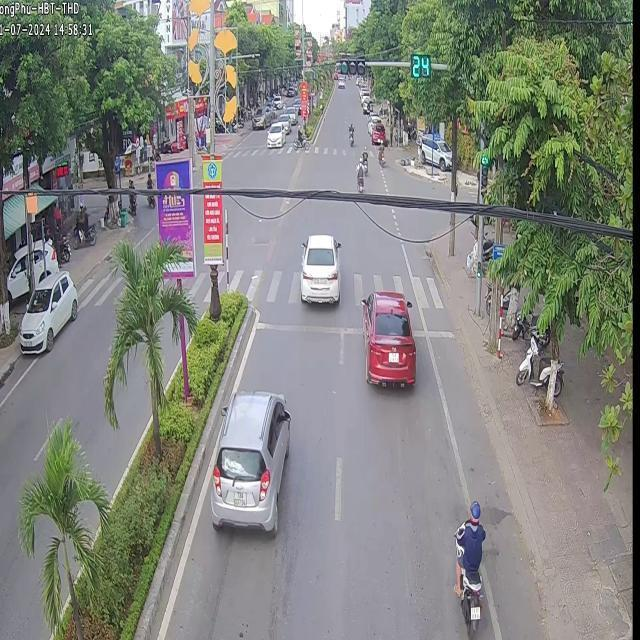car: (208, 389, 289, 534), (360, 289, 414, 385), (298, 234, 339, 302)
green_light: (337, 56, 364, 74), (479, 151, 489, 182)
motobike: (454, 501, 482, 638), (354, 158, 363, 191), (359, 145, 367, 172)
stop_line: (256, 320, 360, 333), (412, 327, 451, 336)
